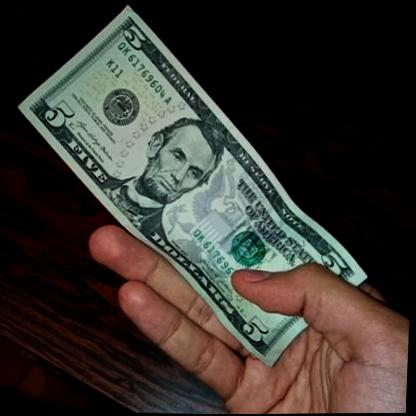five-front: (0, 0, 386, 375)
